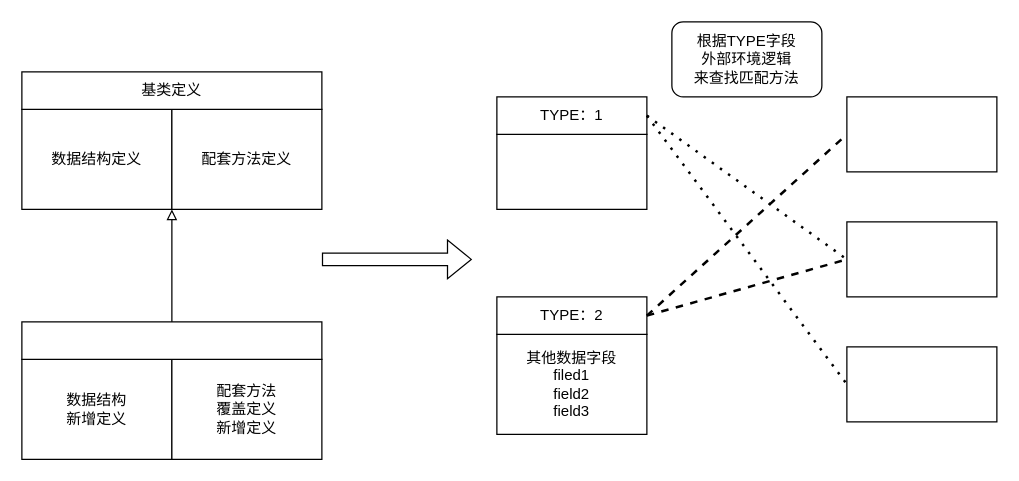
This 1019x481 diagram has some shape labels left out. Here are the shapes that lost their labels. From the top down, the centre of each, then its label:
(x=921, y=134): function1
(x=571, y=171): 其他数据字段 field1 field2
(x=921, y=259): functioin2
(x=171, y=340): 子类定义
(x=921, y=384): function3
